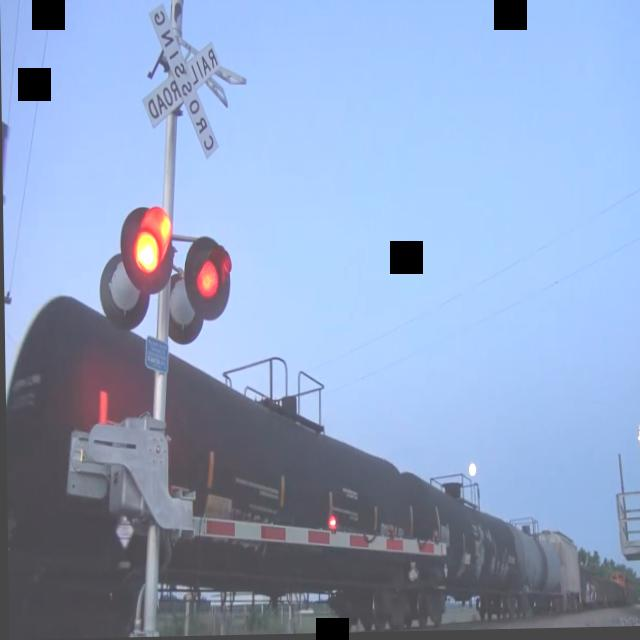tank: (4, 275, 417, 640), (401, 460, 529, 633)
